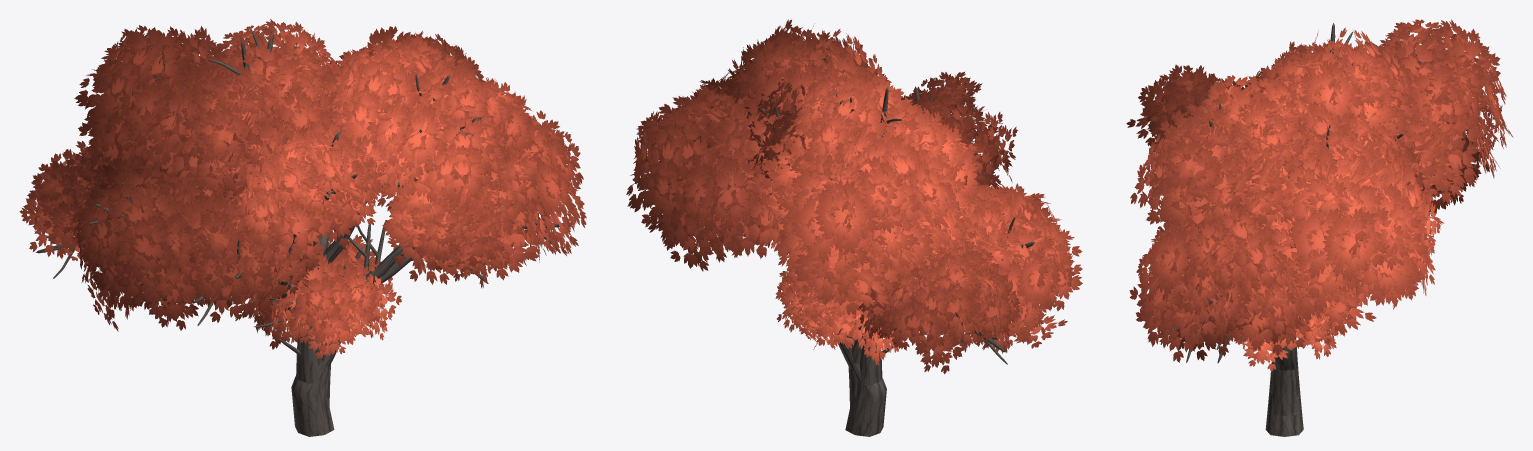
Rendered from maple-trees.glb.
3 renders of one model, left to right at view 1: azimuth 30°, elevation 25°; view 2: azimuth 150°, elevation 25°; view 3: azimuth 270°, elevation 25°, orthographic. The views are drawn at different scales.
Parts seen in each view (by area): view 1: MapleTree_5, MapleTree_3, MapleTree_2, MapleTree_1, MapleTree_4; view 2: MapleTree_3, MapleTree_2, MapleTree_5, MapleTree_4, MapleTree_1; view 3: MapleTree_3, MapleTree_5, MapleTree_2, MapleTree_1, MapleTree_4.
Boxes of the visible parts, box(x1,y1,x2,y2) form: MapleTree_5: box(141, 19, 534, 406); MapleTree_3: box(74, 25, 586, 434); MapleTree_2: box(19, 49, 407, 436); MapleTree_1: box(194, 86, 559, 360); MapleTree_4: box(248, 234, 401, 358); MapleTree_3: box(626, 68, 1082, 434); MapleTree_2: box(744, 72, 1019, 436); MapleTree_5: box(719, 19, 1056, 407); MapleTree_4: box(775, 265, 906, 365); MapleTree_1: box(693, 99, 956, 362); MapleTree_3: box(1129, 19, 1513, 436); MapleTree_5: box(1130, 23, 1422, 415); MapleTree_2: box(1126, 64, 1489, 427); MapleTree_1: box(1147, 64, 1425, 360); MapleTree_4: box(1228, 266, 1349, 371).
Size of the model in its own units: 8.98 by 7.28 by 6.68.
2 materials, 2 textured.
